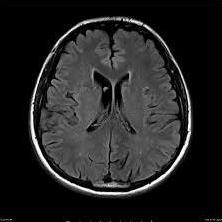Normal_Brain: (1, 4, 222, 222)
